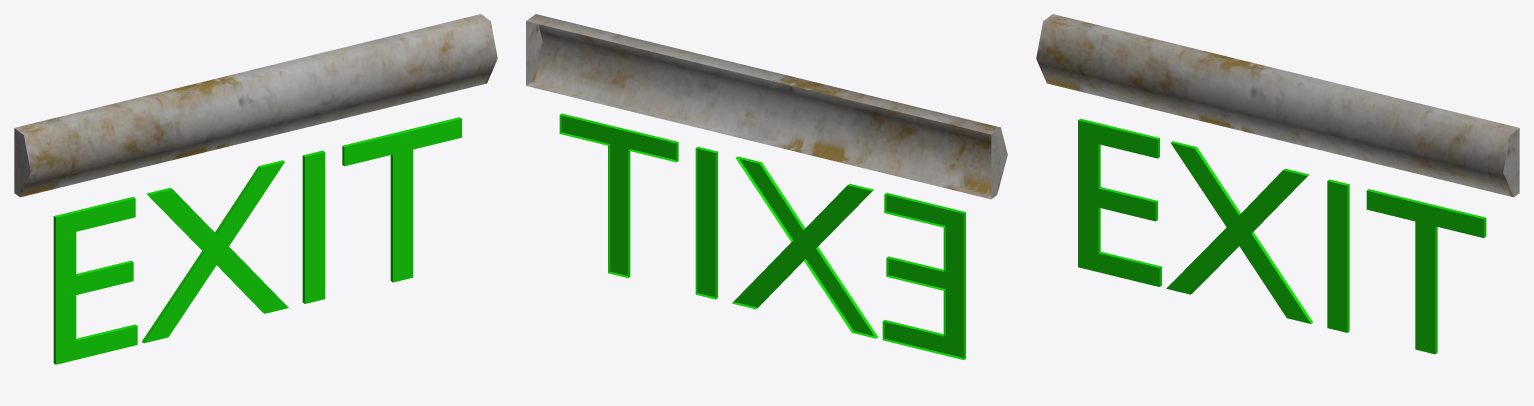
The model's file is Exit_Sign.fbx.
3 renders of one model, left to right at view 1: azimuth 30°, elevation 25°; view 2: azimuth 150°, elevation 25°; view 3: azimuth 330°, elevation 25°, orthographic.
Visible parts, largest first — view 1: Cube, Text; view 2: Cube, Text; view 3: Cube, Text.
Part boxes in pixels (x1,y1,x2,y2): Cube: (14,14,497,197); Text: (53,117,461,364); Cube: (526,14,1007,199); Text: (559,113,965,359); Cube: (1036,14,1519,197); Text: (1078,118,1486,354).
Bounding box in the file's own units: 409 × 219 × 25.32.
2 materials, 1 textured.
